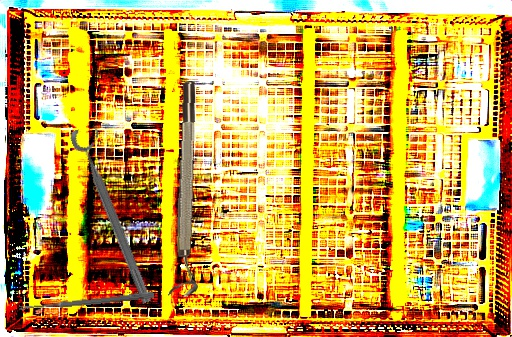Fixation Ring: (68, 122, 166, 306), (168, 80, 209, 298)
Surgical Spoon: (19, 290, 154, 313)
